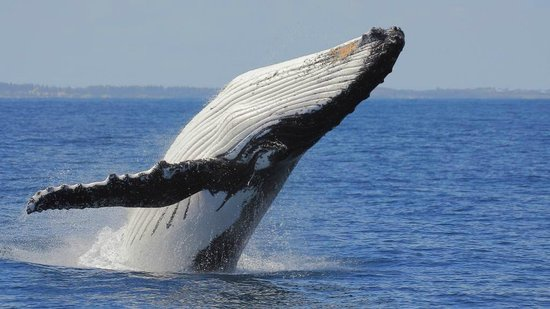humpback: (124, 26, 406, 267)
